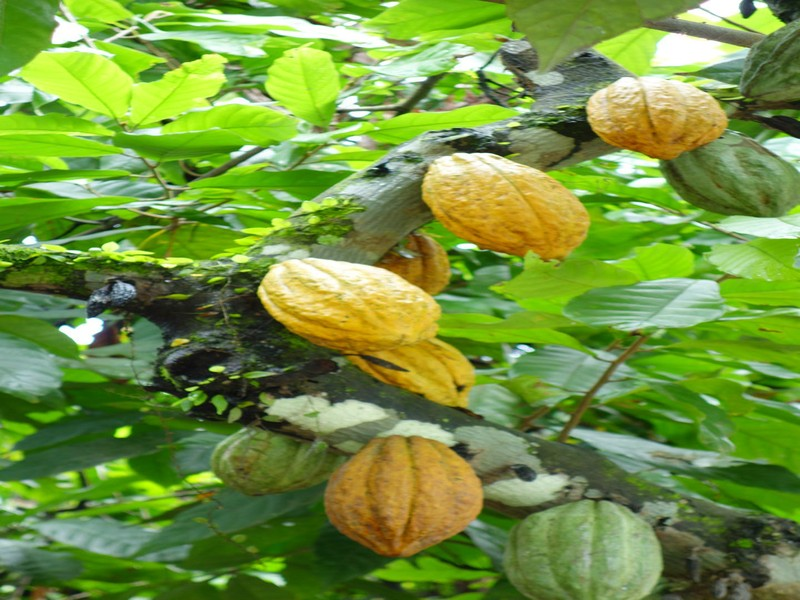Cacaopod: (420, 151, 593, 266), (255, 256, 439, 349)
